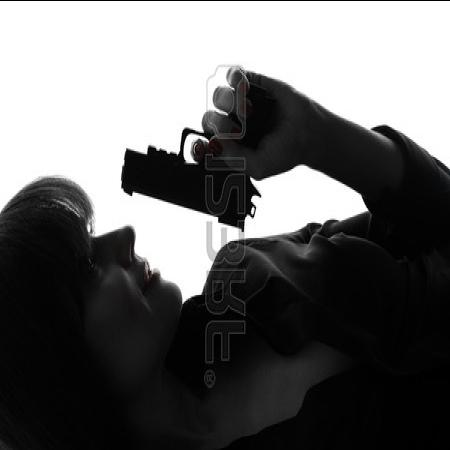Pistol: (111, 52, 275, 234)
